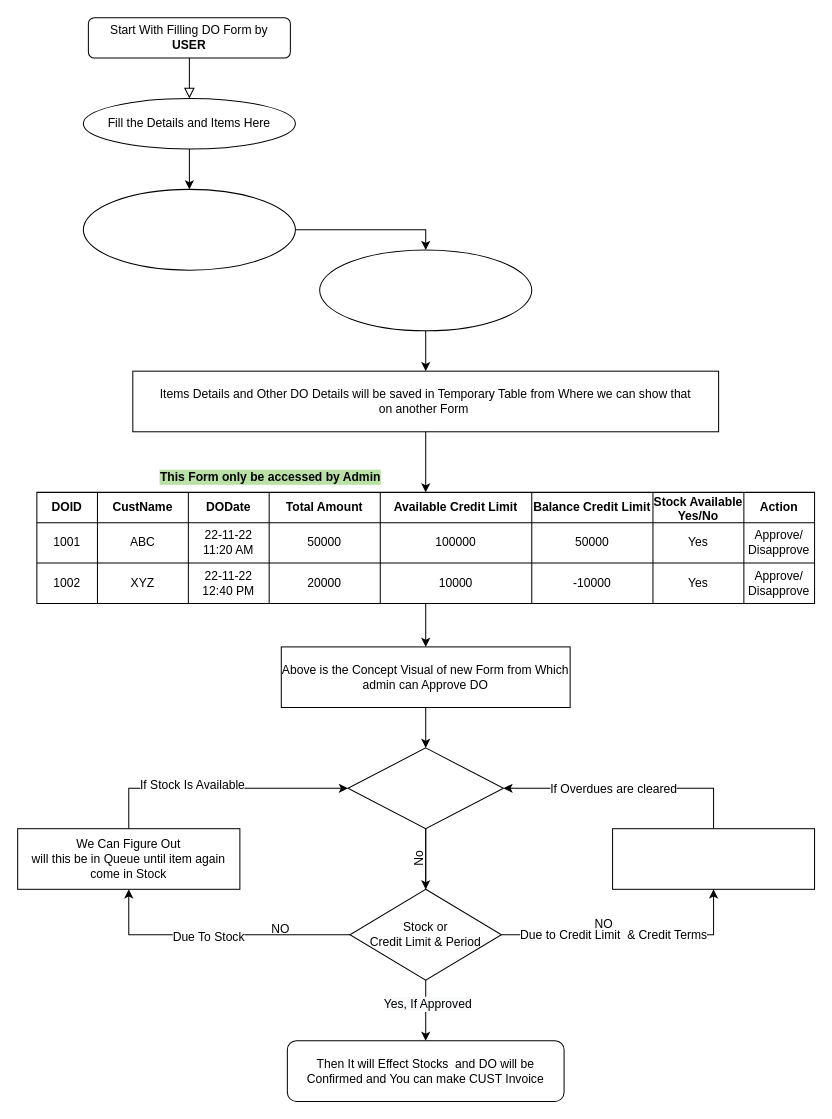
The diagram is 832 pixels wide and 1119 high, and some of its shapes have lost their labels. The centre of each missing label's shape, as x and y in pixels:
Approved / Disapproved: (425,788)
Save DO Details Without any Stock Check and Validations: (425,290)
We Can Figure Out will this be in Queue until Overdues are cleared: (713,858)
We Don't Apply Any Credit Terms & Credit Limit Validation Here: (188,229)
